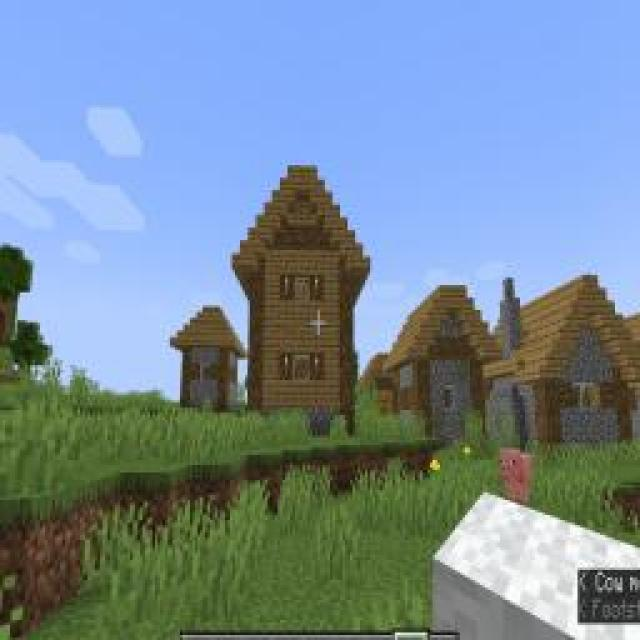Villager: (230, 158, 372, 440), (514, 268, 638, 454), (382, 278, 508, 452), (168, 299, 250, 421)
